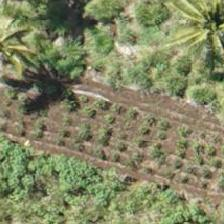coconut_tree: (172, 0, 223, 69)
